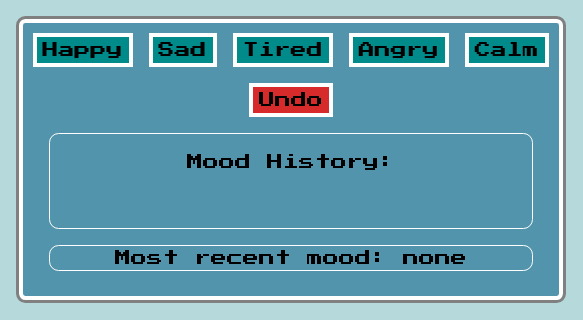
Test: MoodTracker - mood buttons › updates mood to Happy clicked
The width and height of the screenshot is (583, 320).
Click the button "Happy".
click(83, 50)  # box 33,33 -> 133,67
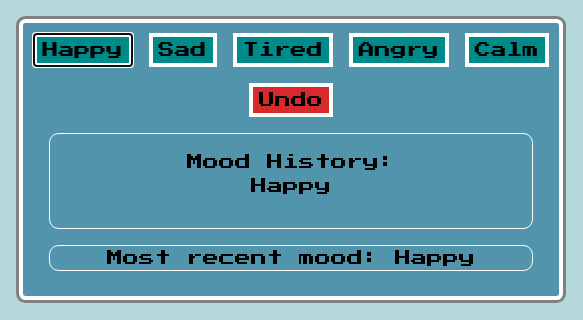
Expected: the text "Most recent mood: Happy" is shown, 107,250 -> 475,266
